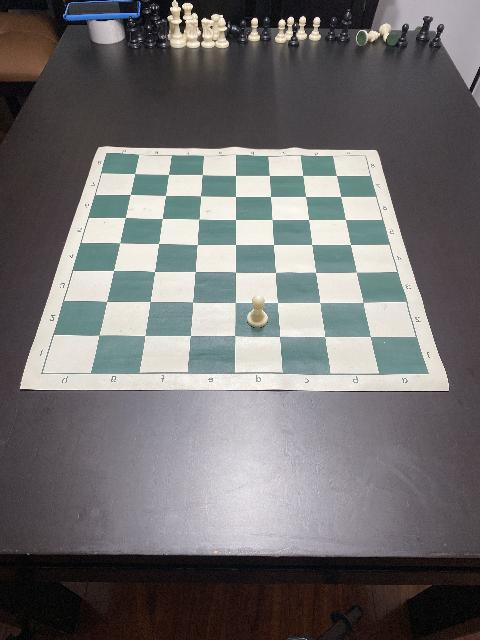board: (19, 147, 449, 393)
white-pawn: (247, 294, 269, 328)
